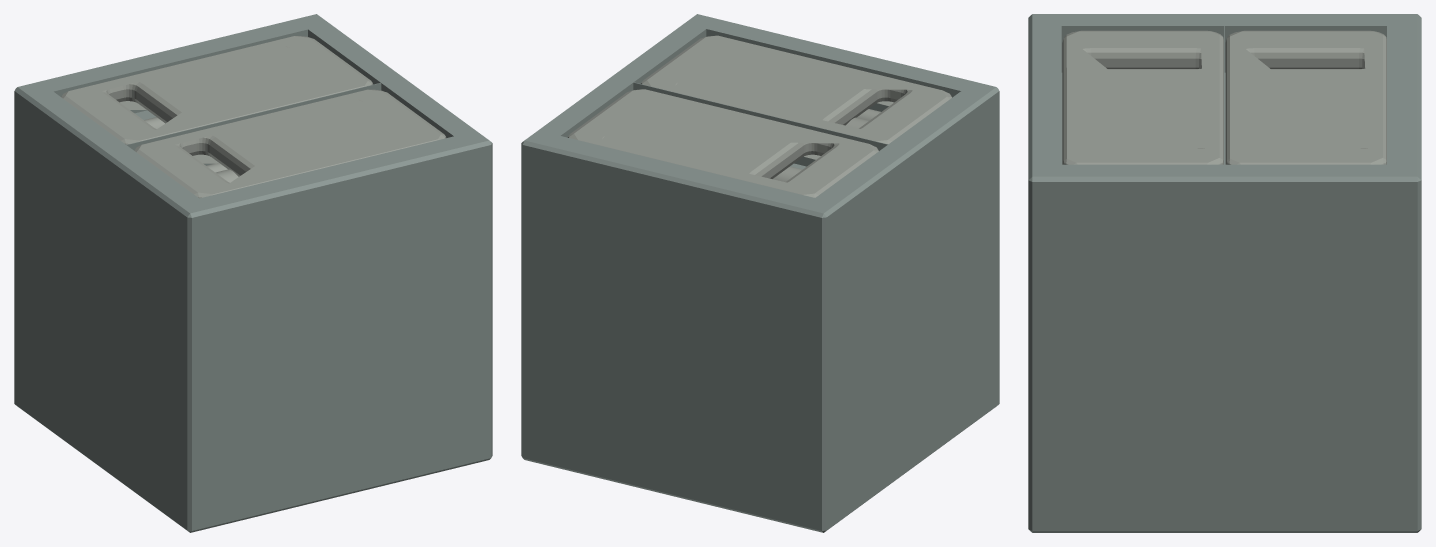
Rendered from Env_Floor_SpaceStation_VentFlooring_1x1.fbx.
3 views of the same model, side by side, from view 1: azimuth 30°, elevation 25°; view 2: azimuth 150°, elevation 25°; view 3: azimuth 270°, elevation 25° (orthographic). The views are drawn at different scales.
Parts seen in each view (by area): view 1: Env_Floor_SpaceStation_VentFlooring_1x1; view 2: Env_Floor_SpaceStation_VentFlooring_1x1; view 3: Env_Floor_SpaceStation_VentFlooring_1x1.
Boxes of the visible parts, box(x1,y1,x2,y2) form: Env_Floor_SpaceStation_VentFlooring_1x1: box(14, 14, 492, 532); Env_Floor_SpaceStation_VentFlooring_1x1: box(521, 14, 999, 532); Env_Floor_SpaceStation_VentFlooring_1x1: box(1028, 14, 1421, 532).
Bounding box in the file's own units: 100 × 100 × 100.
